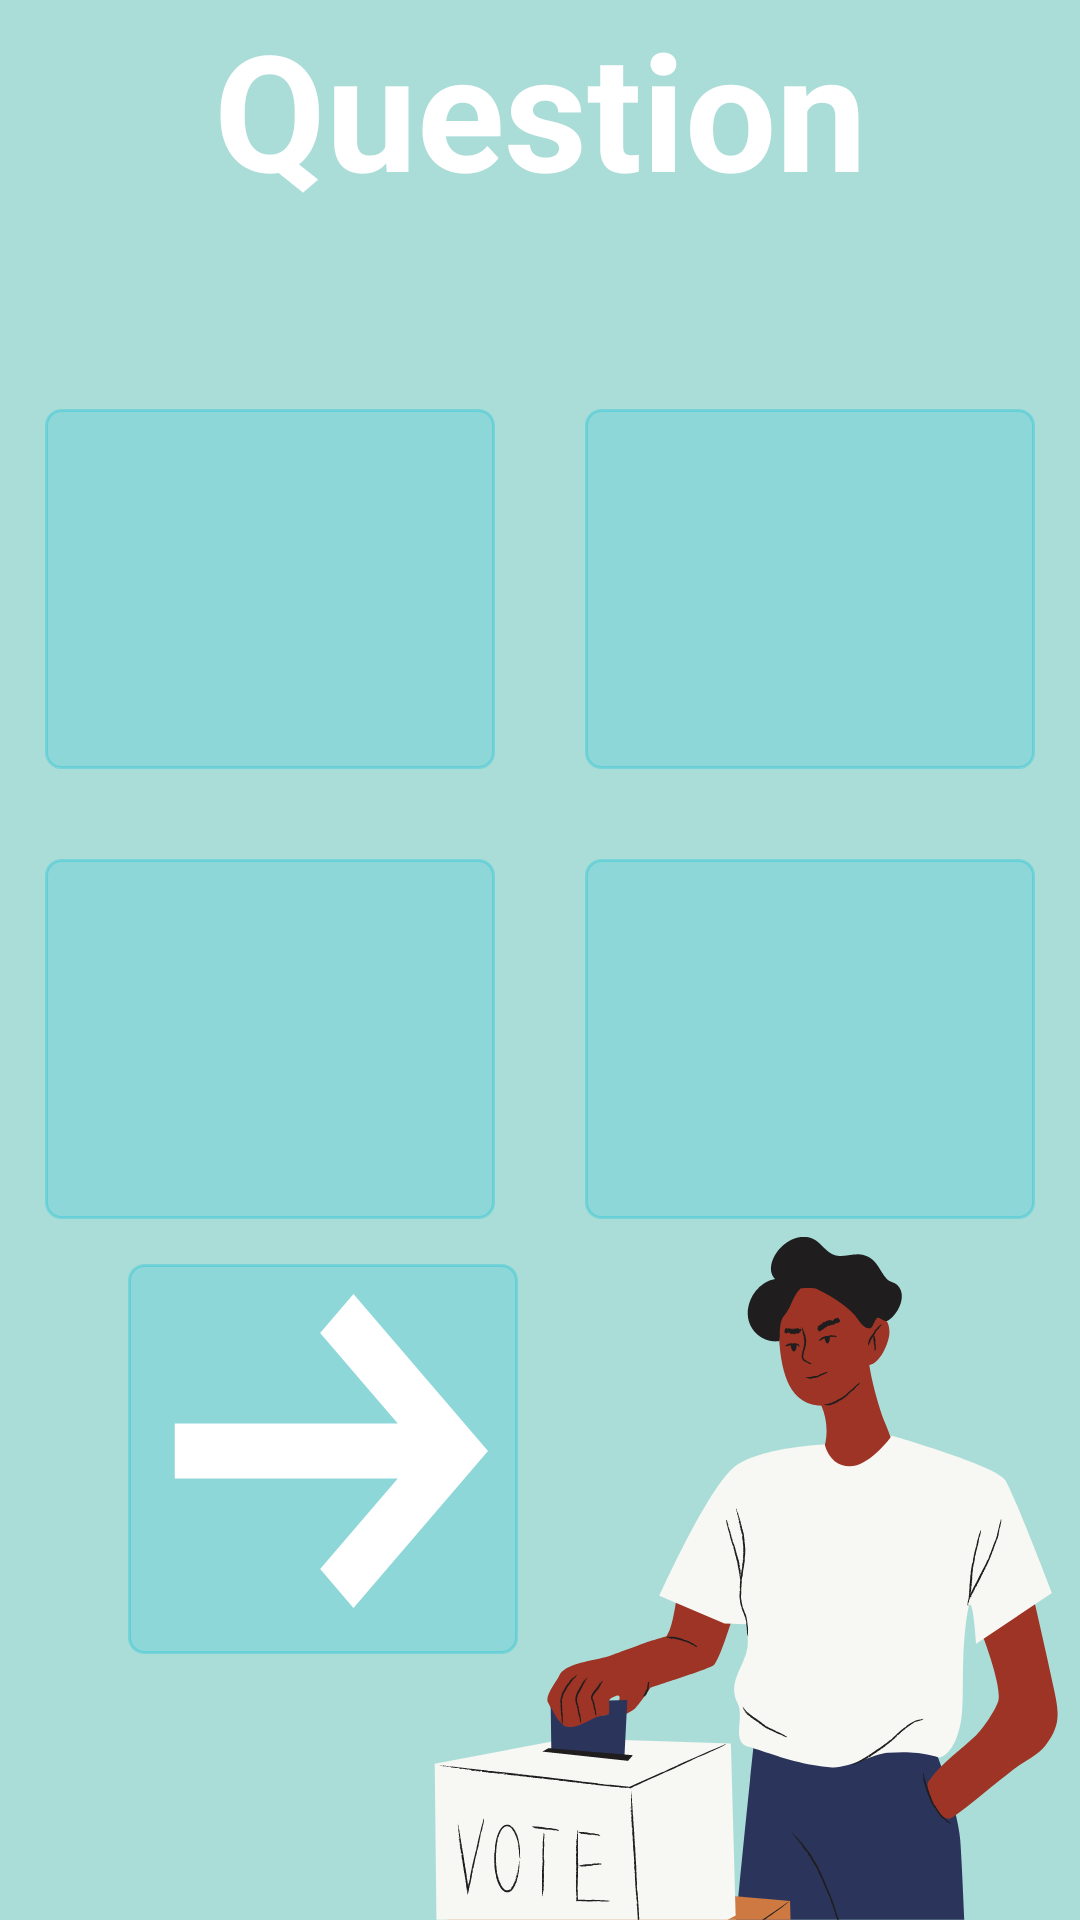

Where to tap for icons on this 1080×1920 app screen, as [x,y]:
arrow forward: [331,1451]
